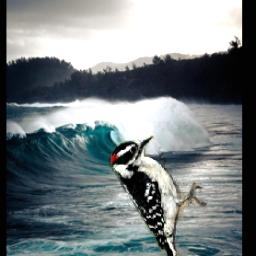Woodpecker: (109, 136, 208, 256)
